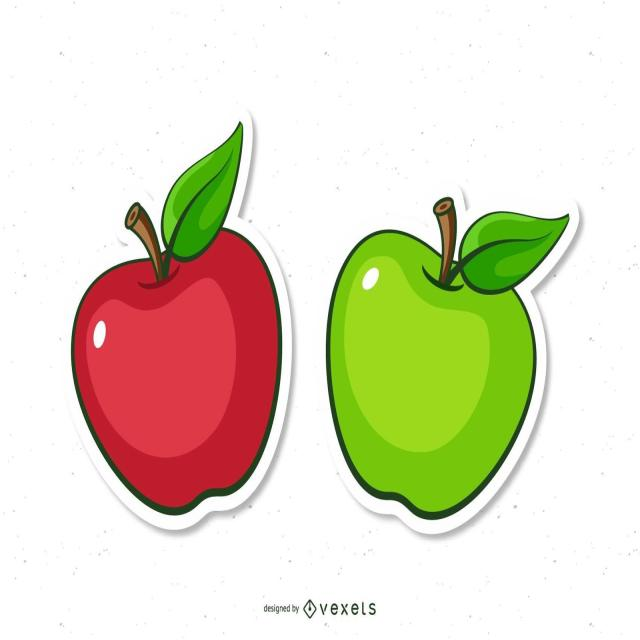manzana: (45, 106, 301, 535), (315, 158, 586, 553)
